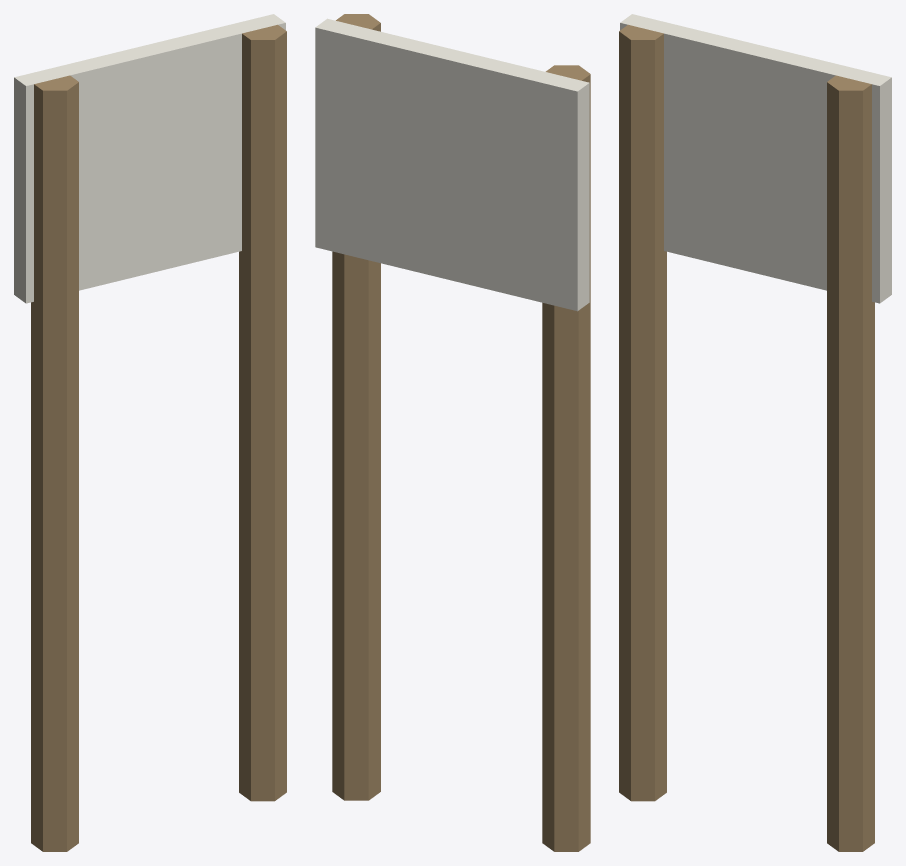
File: sign_rules.glb
3 renders of one model, left to right at view 1: azimuth 30°, elevation 25°; view 2: azimuth 150°, elevation 25°; view 3: azimuth 330°, elevation 25°, orthographic.
Parts seen in each view (by area): view 1: SignRules; view 2: SignRules; view 3: SignRules.
Part boxes in pixels (x1,y1,x2,y2): SignRules: (14, 14, 286, 851); SignRules: (315, 14, 590, 851); SignRules: (619, 14, 891, 851).
Bounding box in the file's own units: 0.5 × 1.4 × 0.09.
